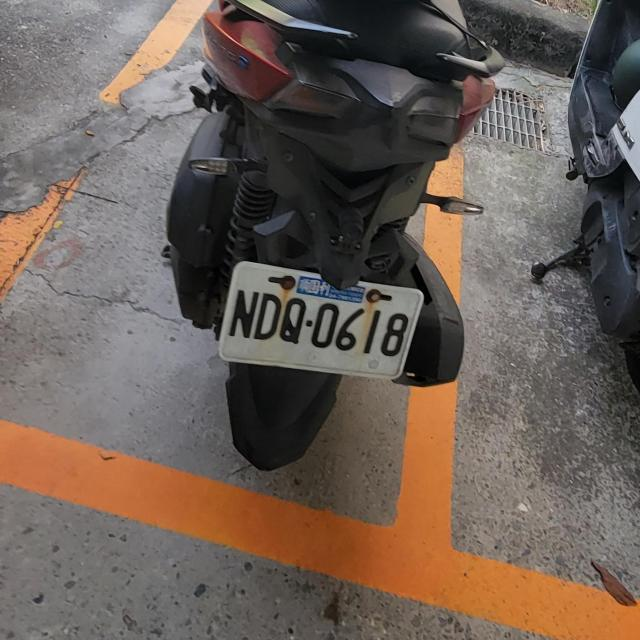W: (212, 255, 424, 386)
